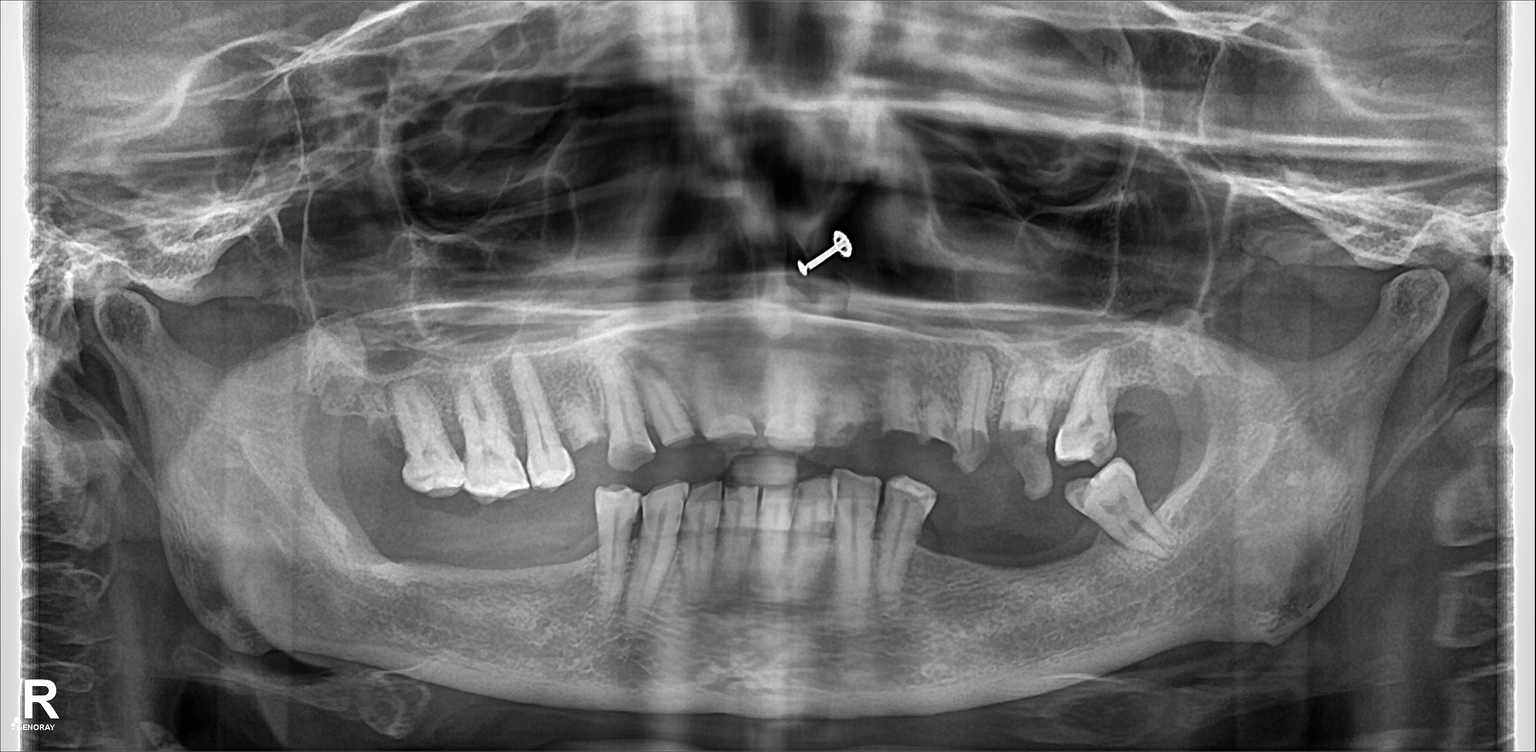Dental Caries: (613, 443, 661, 471), (659, 424, 706, 442)
Missing Tooth: (510, 516, 571, 623), (339, 374, 399, 475), (1028, 510, 1083, 609), (1155, 341, 1198, 457), (985, 506, 1031, 612), (1156, 460, 1216, 541), (458, 519, 504, 624), (311, 493, 358, 594), (302, 374, 343, 486), (402, 512, 448, 599), (1104, 354, 1146, 444), (939, 508, 979, 602), (365, 501, 402, 597)
Retained Root: (590, 346, 654, 465), (872, 344, 922, 471), (549, 369, 609, 465), (639, 352, 694, 444), (922, 344, 959, 475), (967, 352, 994, 471)
Tooth Fracture: (991, 359, 1059, 496)
